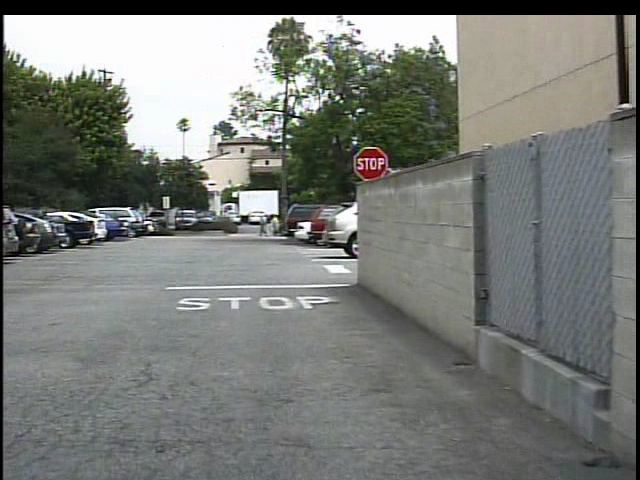person: (250, 214, 264, 240), (262, 213, 276, 238)
